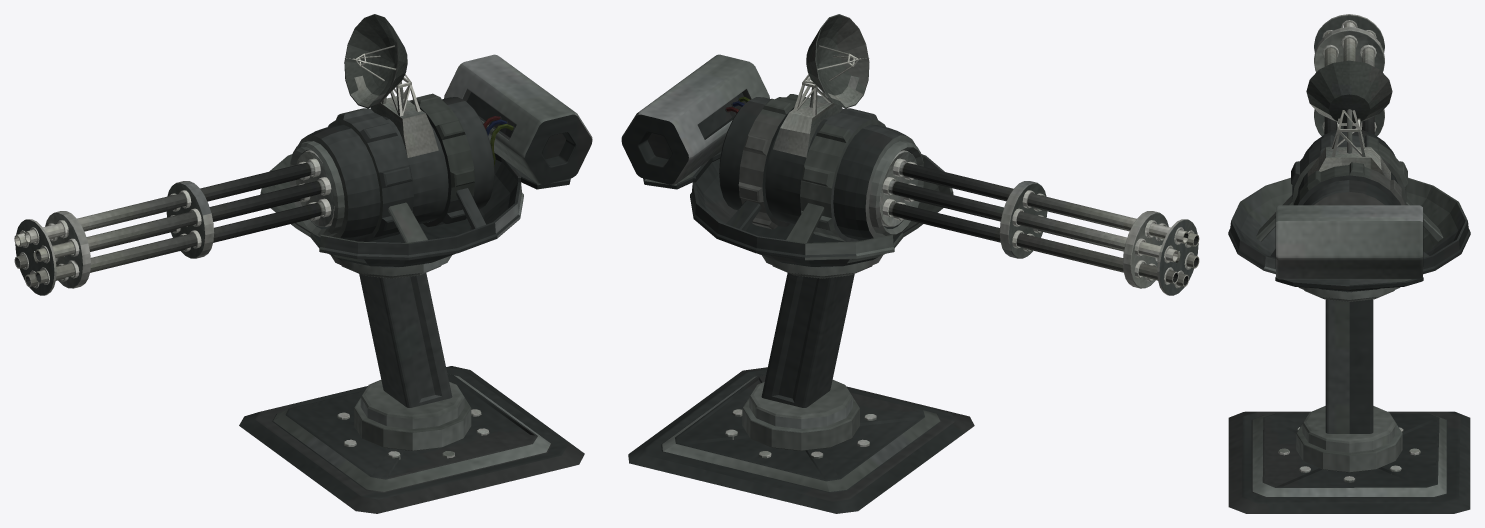
File: turret.fbx
3 views of the same model, side by side, from view 1: azimuth 30°, elevation 25°; view 2: azimuth 150°, elevation 25°; view 3: azimuth 270°, elevation 25° (orthographic). The views are drawn at different scales.
Parts seen in each view (by area): view 1: barrelBase_obj, base_obj, barrel_obj; view 2: barrelBase_obj, base_obj, barrel_obj; view 3: base_obj, barrelBase_obj, barrel_obj.
Boxes of the visible parts, <box> form: barrelBase_obj: <box>260,14,592,266</box>; base_obj: <box>239,255,584,513</box>; barrel_obj: <box>14,150,334,295</box>; barrelBase_obj: <box>621,14,953,266</box>; base_obj: <box>628,255,974,513</box>; barrel_obj: <box>879,150,1199,295</box>; base_obj: <box>1228,287,1470,513</box>; barrelBase_obj: <box>1228,60,1470,291</box>; barrel_obj: <box>1314,14,1384,135</box>.
Size of the model in its own units: 15.63 by 12.21 by 6.88.
